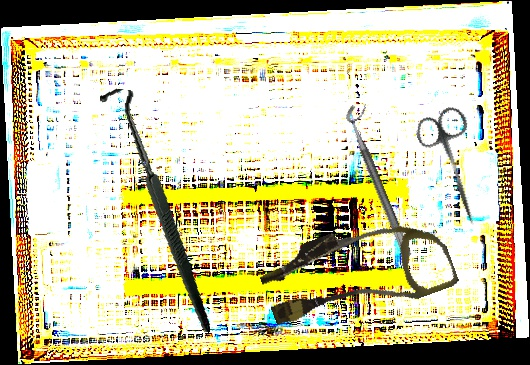Cannula: (254, 197, 460, 348)
Fixation Ring: (342, 100, 425, 259)
Hook Surgical: (69, 86, 242, 333)
Iris Scissors: (411, 103, 500, 233)
